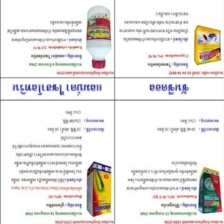book: (192, 23, 224, 67)
carton: (84, 157, 113, 218), (197, 165, 224, 216)
insecticide: (84, 4, 113, 70)
